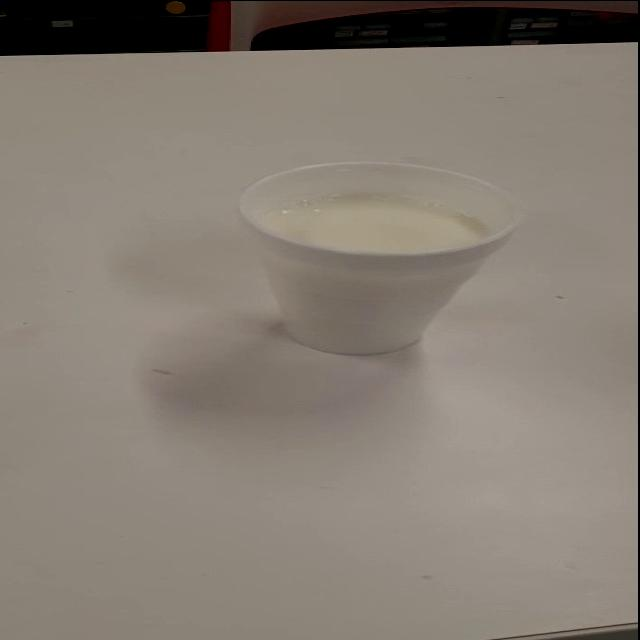milk: (219, 143, 551, 360)
